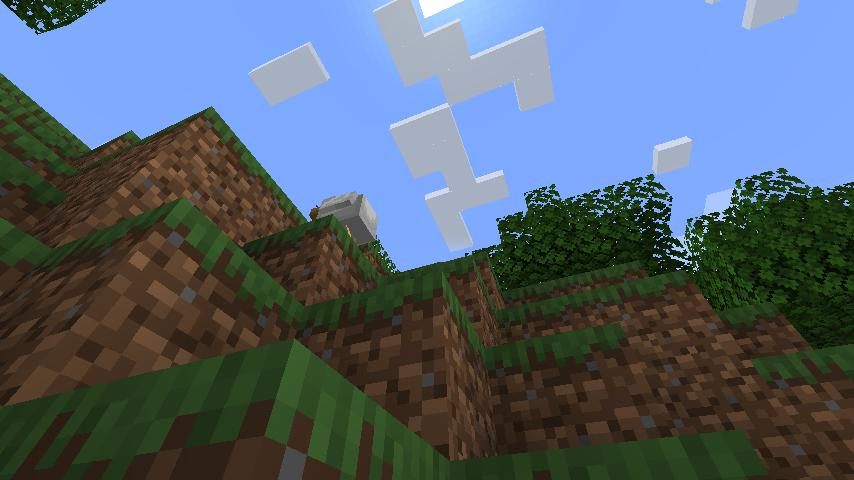chicken: (308, 191, 380, 252)
